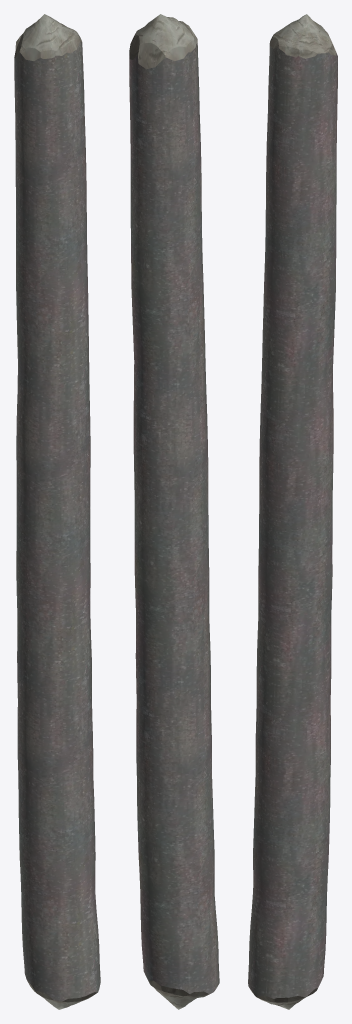
3 renders of one model, left to right at view 1: azimuth 90°, elevation 25°; view 2: azimuth 150°, elevation 25°; view 3: azimuth 330°, elevation 25°, orthographic.
Visible parts, largest first — view 1: SM_GF_Ash_Tree_03_tree_quarters_top_LOD0; view 2: SM_GF_Ash_Tree_03_tree_quarters_top_LOD0; view 3: SM_GF_Ash_Tree_03_tree_quarters_top_LOD0.
Boxes of the visible parts, x1,y1,x2,y2 form: SM_GF_Ash_Tree_03_tree_quarters_top_LOD0: (14, 14, 100, 1009); SM_GF_Ash_Tree_03_tree_quarters_top_LOD0: (129, 14, 219, 1009); SM_GF_Ash_Tree_03_tree_quarters_top_LOD0: (248, 14, 337, 1009).
Bounding box in the file's own units: 0.5203 × 6.77 × 0.536.
1 material, 1 textured.
